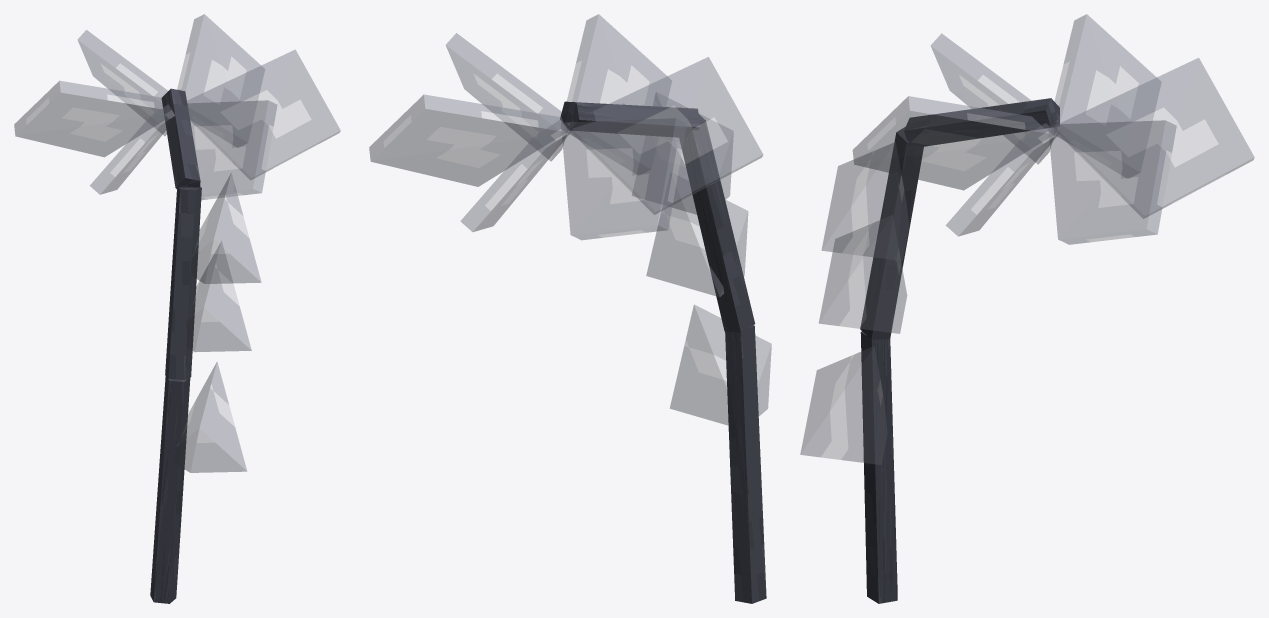
The model's file is f_vitrified_flower.glb.
3 views of the same model, side by side, from view 1: azimuth 30°, elevation 25°; view 2: azimuth 150°, elevation 25°; view 3: azimuth 270°, elevation 25° (orthographic). The views are drawn at different scales.
Parts seen in each view (by area): view 1: block_bent-petal (×6), block_translucent-glass-barb (×3), block_bowed-wispy-glass-stem-1, block_bowed-wispy-glass-stem-2, block_bowed-wispy-glass-stem-3; view 2: block_bent-petal (×6), block_translucent-glass-barb (×3), block_bowed-wispy-glass-stem-1, block_bowed-wispy-glass-stem-2, block_bowed-wispy-glass-stem-3; view 3: block_bent-petal (×6), block_translucent-glass-barb (×3), block_bowed-wispy-glass-stem-1, block_bowed-wispy-glass-stem-2, block_bowed-wispy-glass-stem-3.
Boxes of the visible parts, x1,y1,x2,y2 form: block_bent-petal (×6): (14, 14, 340, 199); block_translucent-glass-barb (×3): (175, 173, 261, 472); block_bowed-wispy-glass-stem-1: (150, 376, 190, 603); block_bowed-wispy-glass-stem-2: (165, 187, 201, 380); block_bowed-wispy-glass-stem-3: (161, 88, 200, 189); block_bent-petal (×6): (369, 14, 763, 240); block_translucent-glass-barb (×3): (632, 92, 771, 425); block_bowed-wispy-glass-stem-1: (725, 325, 766, 603); block_bowed-wispy-glass-stem-2: (679, 114, 755, 332); block_bowed-wispy-glass-stem-3: (560, 101, 700, 137); block_bent-petal (×6): (852, 14, 1254, 244); block_translucent-glass-barb (×3): (800, 142, 909, 464); block_bowed-wispy-glass-stem-1: (860, 331, 897, 603); block_bowed-wispy-glass-stem-2: (860, 127, 923, 339); block_bowed-wispy-glass-stem-3: (904, 98, 1059, 148).
Size of the model in its own units: 0.2525 by 0.4452 by 0.3214.
2 materials, 2 textured.
